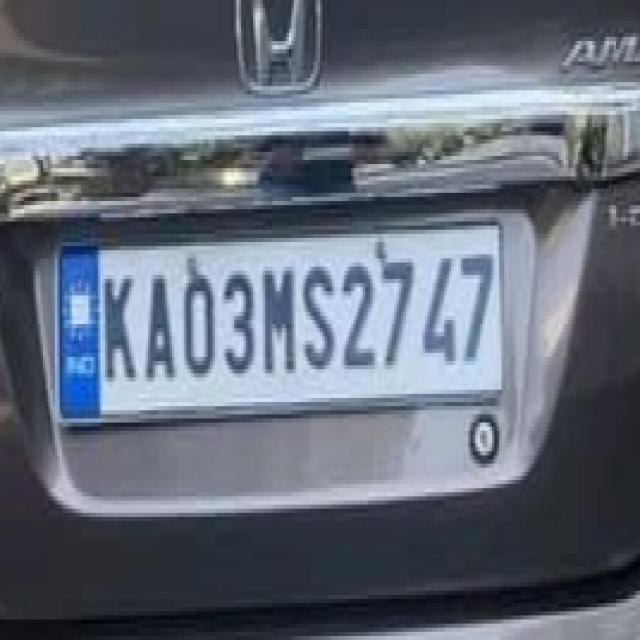0: (182, 266, 216, 378)
3: (220, 263, 256, 378)
4: (420, 245, 460, 370)
7: (459, 246, 498, 370), (380, 258, 414, 373)
A: (141, 266, 176, 388)
K: (99, 266, 142, 391)
M: (260, 259, 300, 377)
S: (299, 258, 337, 378)
